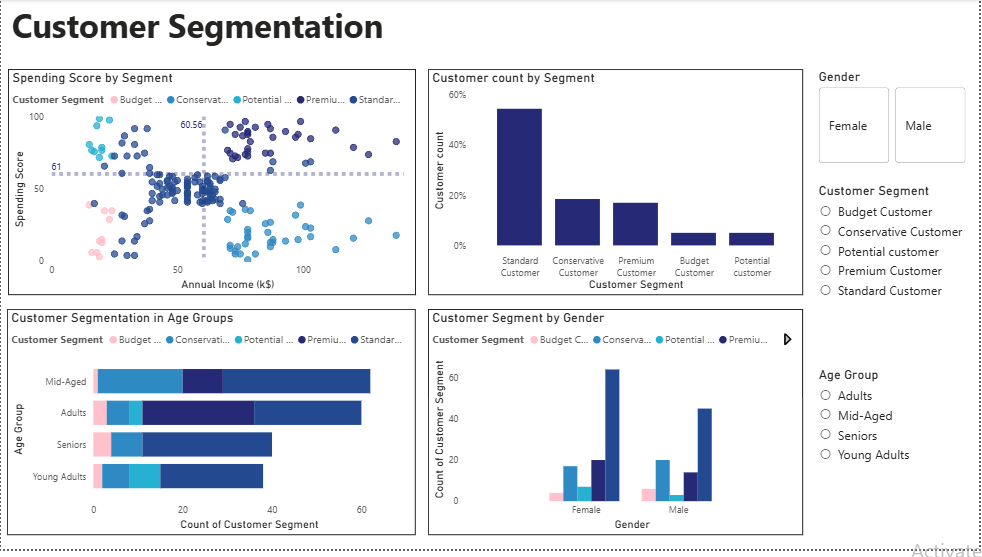

Layout of this report page (visuals, bound fields, positions):
{"tool":"powerbi","page":{"name":"Customer Segmentation","canvas":[1280,720],"ordinal":1},"visuals":[{"type":"textbox","box":[9.6,0,1259.4,75.7],"z":0},{"type":"scatterChart","title":"Spending Score by Segment","fields":{"X":["Mall_Customers.Annual Income (k$)"],"Y":["Sum(Mall_Customers.Spending Score (1-100))"],"Series":["Mall_Customers.Customer Segment"]},"box":[9.6,92.2,534,295.9],"z":1},{"type":"clusteredColumnChart","title":"Customer count by Segment","fields":{"Category":["Mall_Customers.Customer Segment"],"Y":["CountNonNull(Mall_Customers.CustomerID)"]},"box":[558.8,92.2,491.4,295.9],"z":2},{"type":"barChart","title":"Customer Segmentation in Age Groups","fields":{"Category":["Mall_Customers.Age Group"],"Y":["CountNonNull(Mall_Customers.Customer Segment)"],"Series":["Mall_Customers.Customer Segment"]},"box":[8.3,406,535.4,295.9],"z":3},{"type":"clusteredColumnChart","title":"Customer Segment by Gender","fields":{"Category":["Mall_Customers.Gender","Mall_Customers.Customer Segment"],"Y":["CountNonNull(Mall_Customers.Customer Segment)"],"Series":["Mall_Customers.Customer Segment"]},"box":[558.8,406,491.4,295.9],"z":4},{"type":"advancedSlicerVisual","fields":{"Values":["Mall_Customers.Gender"]},"box":[1065.3,92.2,203.7,128],"z":5},{"type":"listSlicer","fields":{"Values":["Mall_Customers.Customer Segment"]},"box":[1065.3,240.9,203.7,240.9],"z":6},{"type":"listSlicer","fields":{"Values":["Mall_Customers.Age Group"]},"box":[1065.3,481.7,203.7,238.1],"z":7}]}

Visuals, with their boxes in screenshot pixels (x1, y1, x2, y2), scaled from the page's 1280x720 canvas onto the 982x557 screenshot:
textbox: bbox(7, 0, 974, 59)
"Spending Score by Segment" scatterChart: bbox(7, 71, 417, 300)
"Customer count by Segment" clusteredColumnChart: bbox(429, 71, 806, 300)
"Customer Segmentation in Age Groups" barChart: bbox(6, 314, 417, 543)
"Customer Segment by Gender" clusteredColumnChart: bbox(429, 314, 806, 543)
advancedSlicerVisual - Mall_Customers.Gender: bbox(817, 71, 974, 170)
listSlicer - Mall_Customers.Customer Segment: bbox(817, 186, 974, 373)
listSlicer - Mall_Customers.Age Group: bbox(817, 373, 974, 556)
